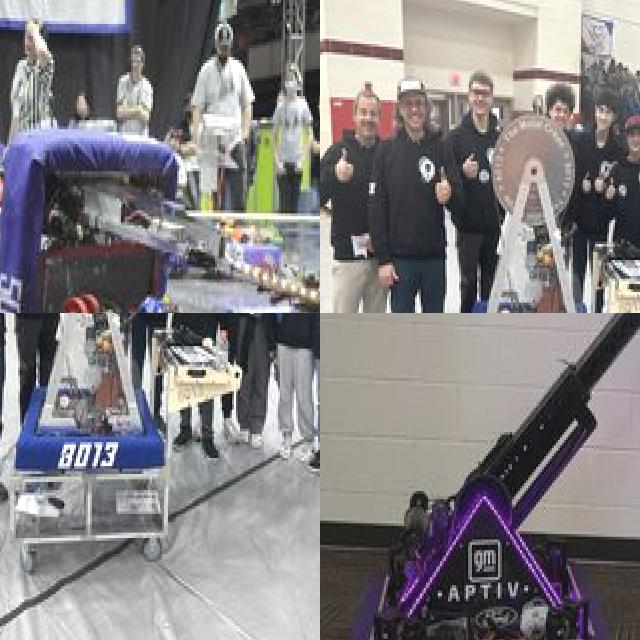FRC-Robots: (320, 313, 640, 640), (0, 131, 320, 313), (455, 94, 618, 313), (14, 313, 177, 480)
